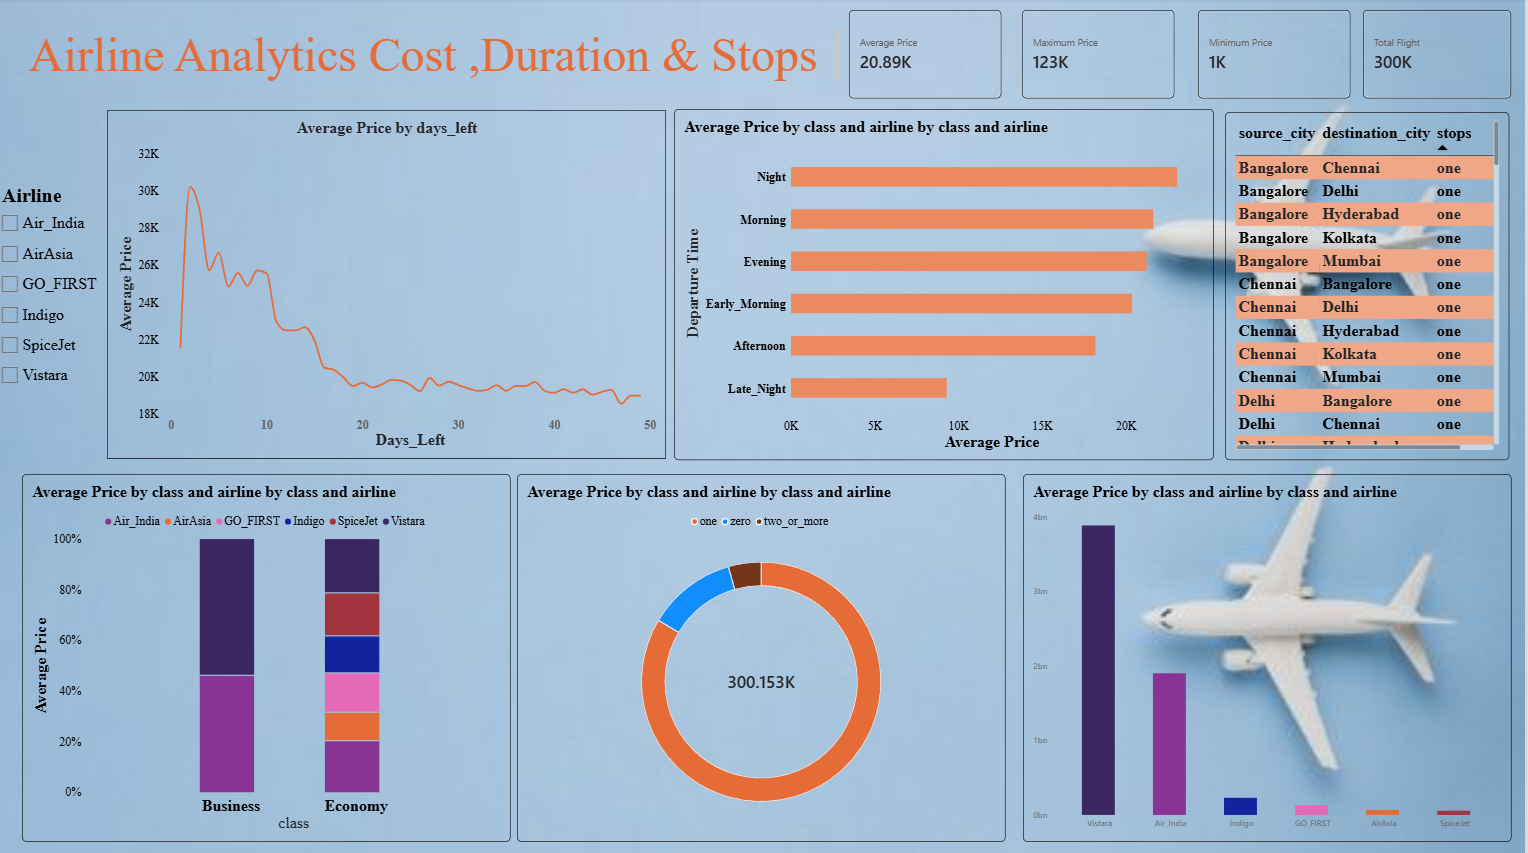

Layout of this report page (visuals, bound fields, positions):
{"tool":"powerbi","page":{"name":"Page 1","canvas":[2560,1440],"ordinal":0},"visuals":[{"type":"cardVisual","fields":{"Data":["airlines_flights_data.Average Price"]},"box":[1426.6,20.7,255.3,148.4],"z":0},{"type":"cardVisual","fields":{"Data":["airlines_flights_data.Minimum Price"]},"box":[2011.4,20.7,255.3,148.4],"z":1000},{"type":"cardVisual","fields":{"Data":["airlines_flights_data.Maximum Price"]},"box":[1716.4,20.7,255.3,148.4],"z":2000},{"type":"cardVisual","fields":{"Data":["airlines_flights_data.Total Flight"]},"box":[2287.4,20.7,248.4,148.4],"z":3000},{"type":"lineChart","title":"Average Price by days_left","fields":{"Y":["airlines_flights_data.Average Price"],"Category":["airlines_flights_data.days_left"]},"box":[184.2,187.5,936,584.4],"z":4000},{"type":"slicer","fields":{"Values":["airlines_flights_data.airline"]},"box":[0,256.2,184.2,376.7],"z":5000},{"type":"tableEx","fields":{"Values":["airlines_flights_data.source_city","airlines_flights_data.destination_city","airlines_flights_data.stops"]},"box":[2056.3,191.5,476.1,583.1],"z":6000},{"type":"hundredPercentStackedColumnChart","title":"Average Price by class and airline by class and airline","fields":{"Y":["airlines_flights_data.Average Price"],"Category":["airlines_flights_data.class"],"Series":["airlines_flights_data.airline"]},"box":[41.4,797,817.7,615.8],"z":7000},{"type":"clusteredBarChart","title":"Average Price by class and airline by class and airline","fields":{"Category":["airlines_flights_data.departure_time"],"Y":["airlines_flights_data.Average Price"]},"box":[1133.4,186.3,903.9,588.2],"z":8000},{"type":"donutChart","title":"Average Price by class and airline by class and airline","fields":{"Category":["airlines_flights_data.stops"],"Y":["CountNonNull(airlines_flights_data.flight)"]},"box":[871.2,797,817.7,615.8],"z":9000},{"type":"columnChart","title":"Average Price by class and airline by class and airline","fields":{"Y":["Sum(airlines_flights_data.price)"],"Category":["airlines_flights_data.airline"]},"box":[1718.2,797,817.7,615.8],"z":10000},{"type":"textbox","box":[0,19,160,150],"z":11000},{"type":"textbox","box":[24.2,50,1387,105.2],"z":12000}]}

Visuals, with their boxes in screenshot pixels (x1, y1, x2, y2), scaled from the page's 2560x1440 canvas onto the 1528x853 screenshot:
cardVisual - airlines_flights_data.Average Price: x1=852, y1=12, x2=1004, y2=100
cardVisual - airlines_flights_data.Minimum Price: x1=1201, y1=12, x2=1353, y2=100
cardVisual - airlines_flights_data.Maximum Price: x1=1024, y1=12, x2=1177, y2=100
cardVisual - airlines_flights_data.Total Flight: x1=1365, y1=12, x2=1514, y2=100
"Average Price by days_left" lineChart: x1=110, y1=111, x2=669, y2=457
slicer - airlines_flights_data.airline: x1=0, y1=152, x2=110, y2=375
tableEx - airlines_flights_data.source_city x airlines_flights_data.destination_city: x1=1227, y1=113, x2=1512, y2=459
"Average Price by class and airline by class and airline" hundredPercentStackedColumnChart: x1=25, y1=472, x2=513, y2=837
"Average Price by class and airline by class and airline" clusteredBarChart: x1=676, y1=110, x2=1216, y2=459
"Average Price by class and airline by class and airline" donutChart: x1=520, y1=472, x2=1008, y2=837
"Average Price by class and airline by class and airline" columnChart: x1=1026, y1=472, x2=1514, y2=837
textbox: x1=0, y1=11, x2=96, y2=100
textbox: x1=14, y1=30, x2=842, y2=92
